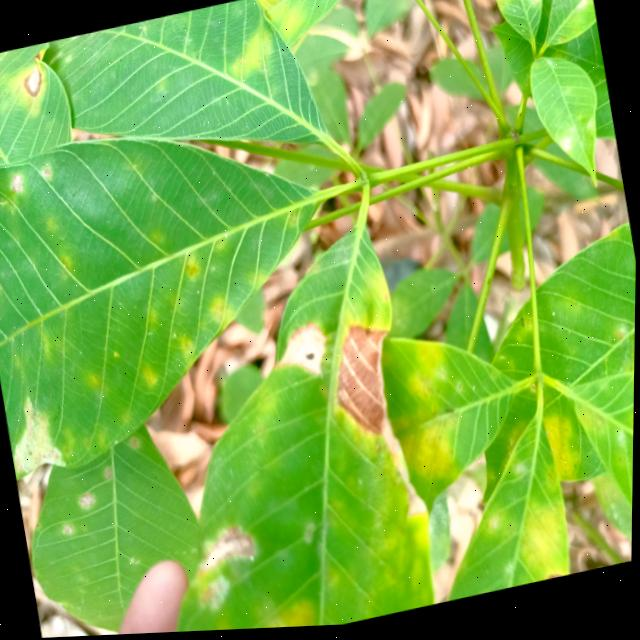Leaf-Blight: (324, 319, 407, 448), (267, 318, 334, 387), (19, 51, 47, 99)
